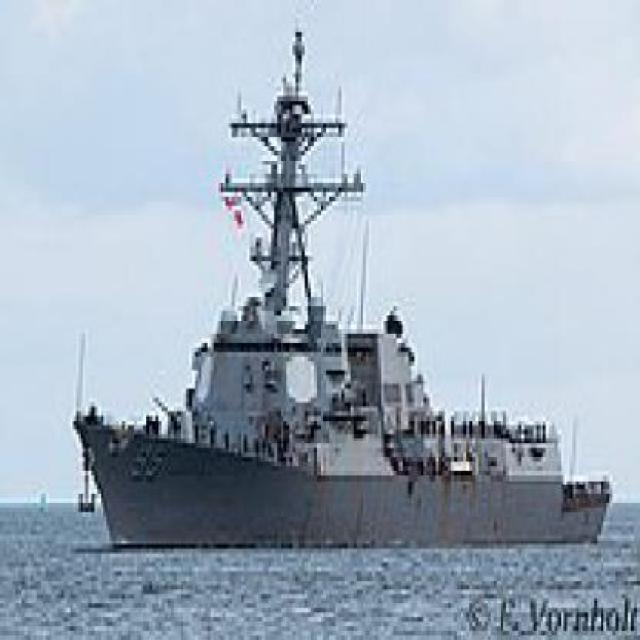warship2: (74, 33, 623, 582)
